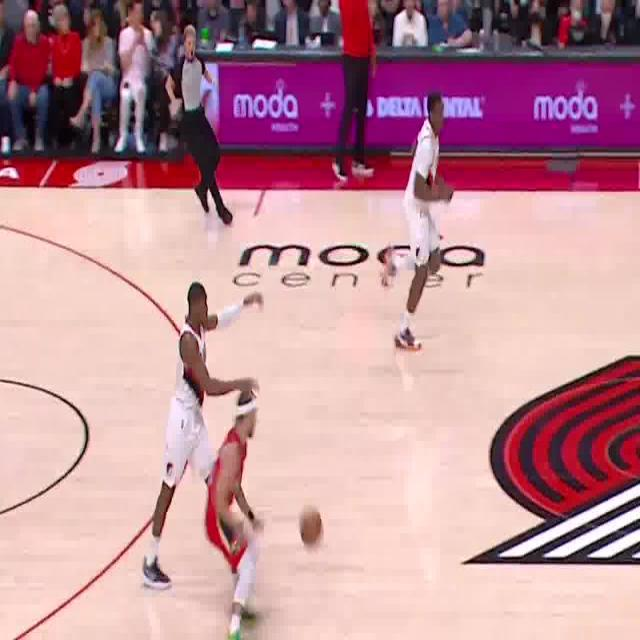ball-handler: (203, 381, 325, 640)
